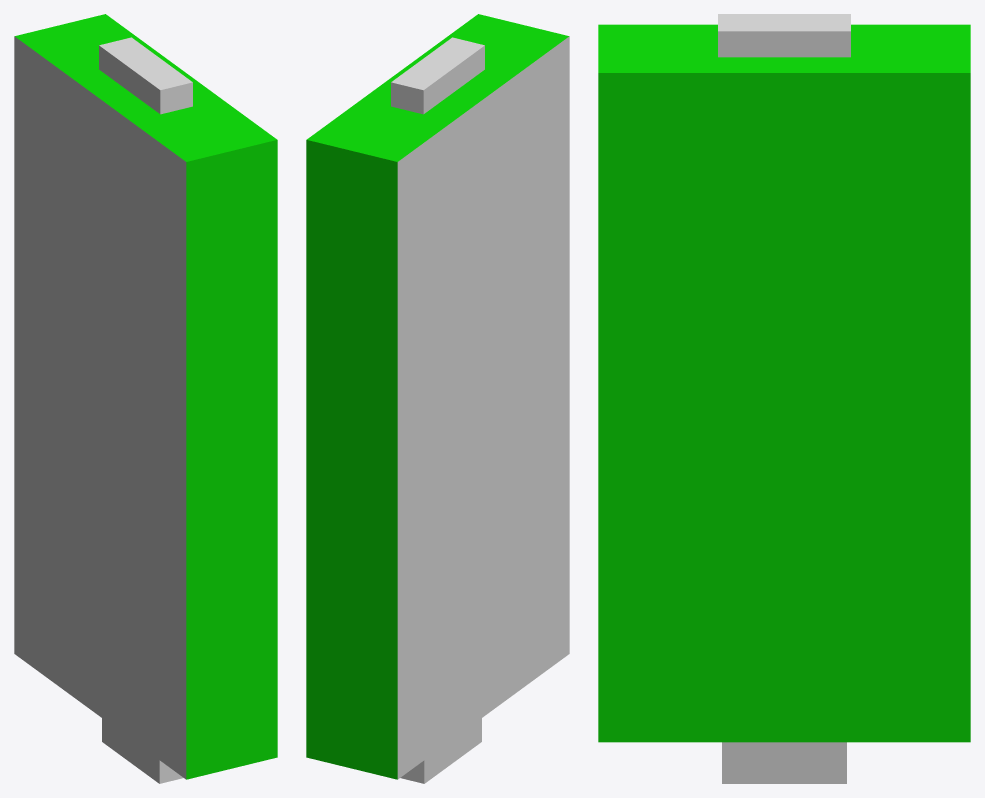
File: Objetos_juego_terror_VR_BateriaNormal.fbx
3 views of the same model, side by side, from view 1: azimuth 30°, elevation 25°; view 2: azimuth 150°, elevation 25°; view 3: azimuth 270°, elevation 25° (orthographic). The views are drawn at different scales.
Parts seen in each view (by area): view 1: Bateria_normal.002; view 2: Bateria_normal.002; view 3: Bateria_normal.002.
Boxes of the visible parts, <box> form: Bateria_normal.002: <box>14,14,277,783</box>; Bateria_normal.002: <box>306,14,569,783</box>; Bateria_normal.002: <box>598,14,970,783</box>.
Size of the model in its own units: 26.16 by 191 by 85.42.
